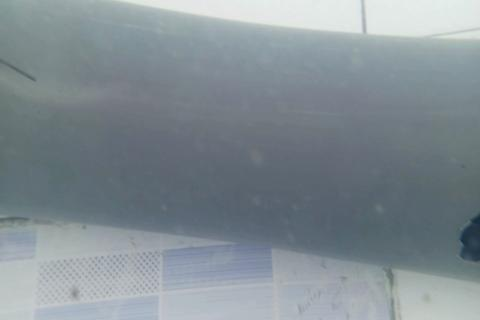kebocoran: (458, 210, 480, 264)
